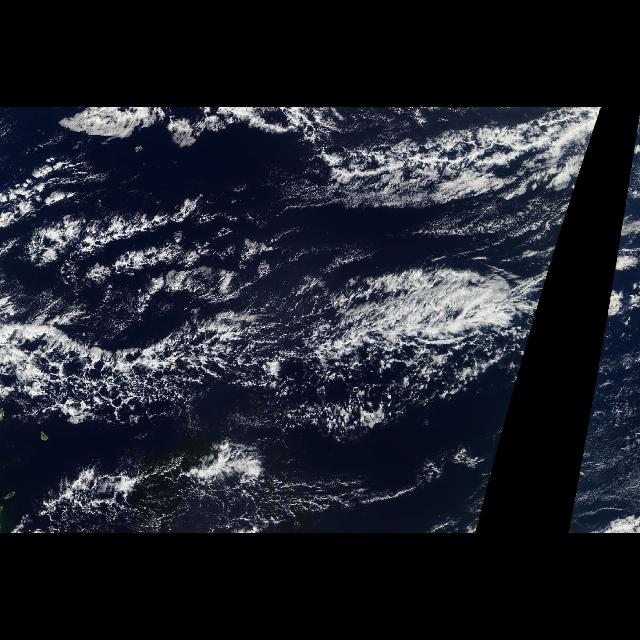Fish: (2, 110, 602, 430), (585, 110, 639, 430)
